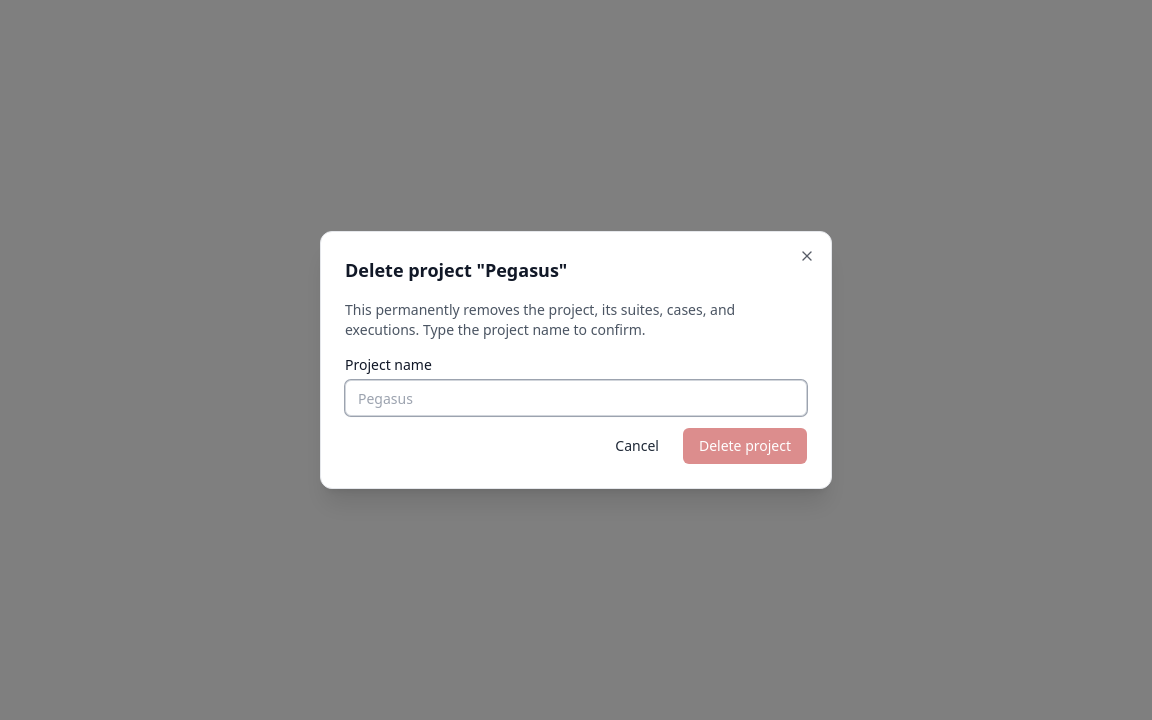
Test case: DeleteProjectDialog › keeps the delete button disabled until the project name is typed
The image size is (1152, 720).
Expected: the button "Delete project" is disabled, [683,428,807,464]
Type "wrong" into the field with placeholder "Pegasus" at [576, 398], box [345,380,807,416]
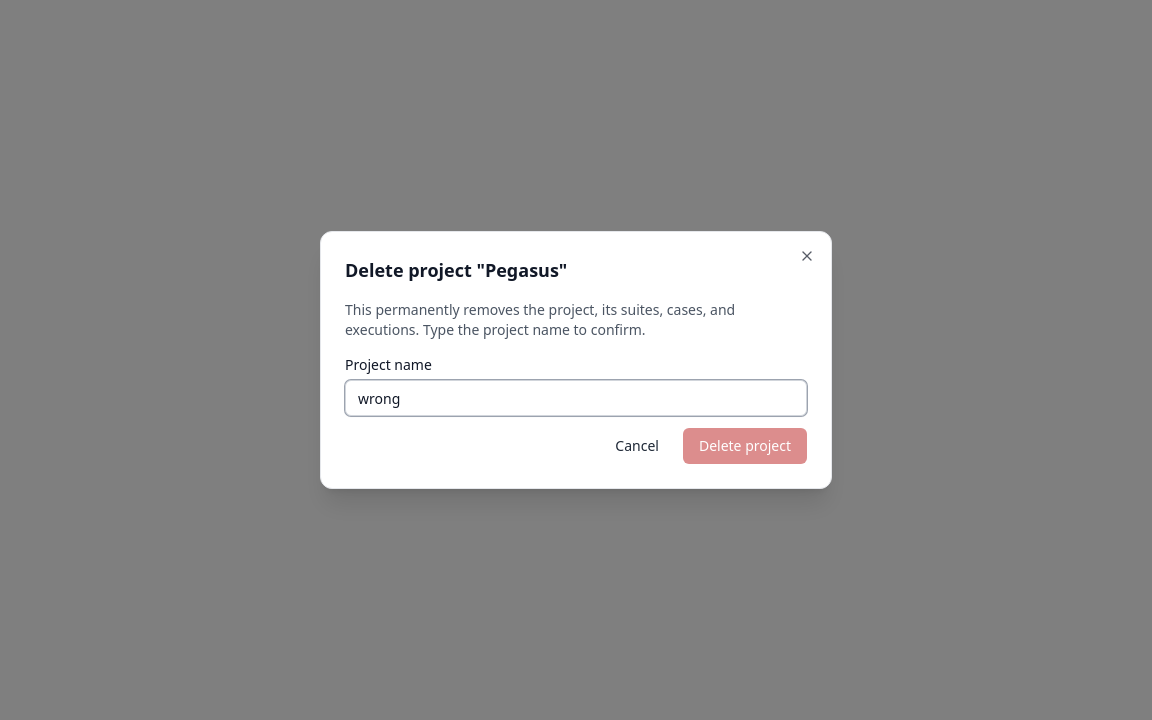
Expected: the button "Delete project" is disabled, [683,428,807,464]
Replace the text in the field with placeholder "Pegasus" with "Pegasus" at [576, 398], box [345,380,807,416]
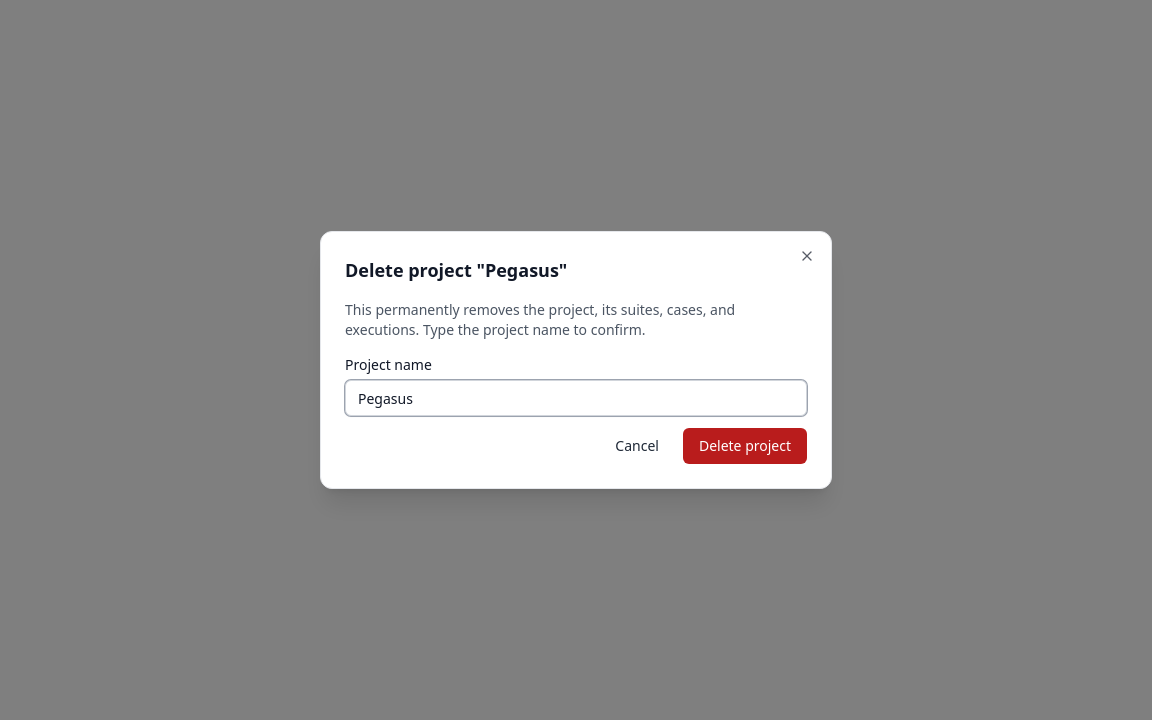
Expected: the button "Delete project" is enabled, [683,428,807,464]
